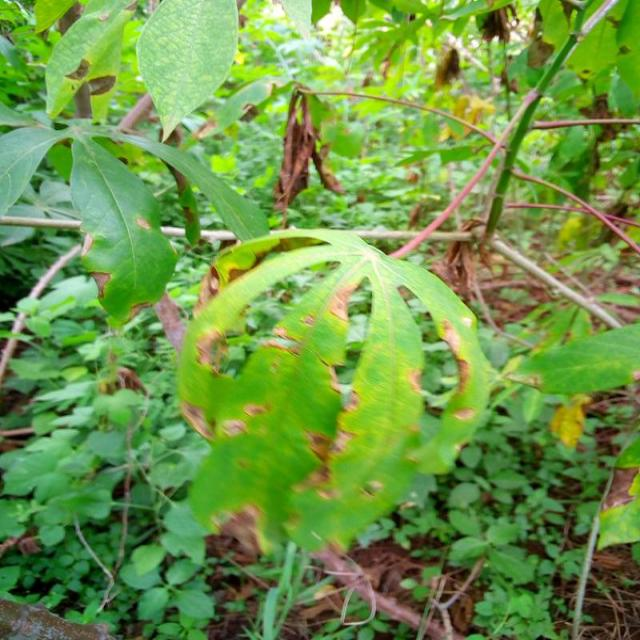cassava leaf: (176, 225, 490, 559), (68, 129, 178, 325), (134, 0, 238, 142)
